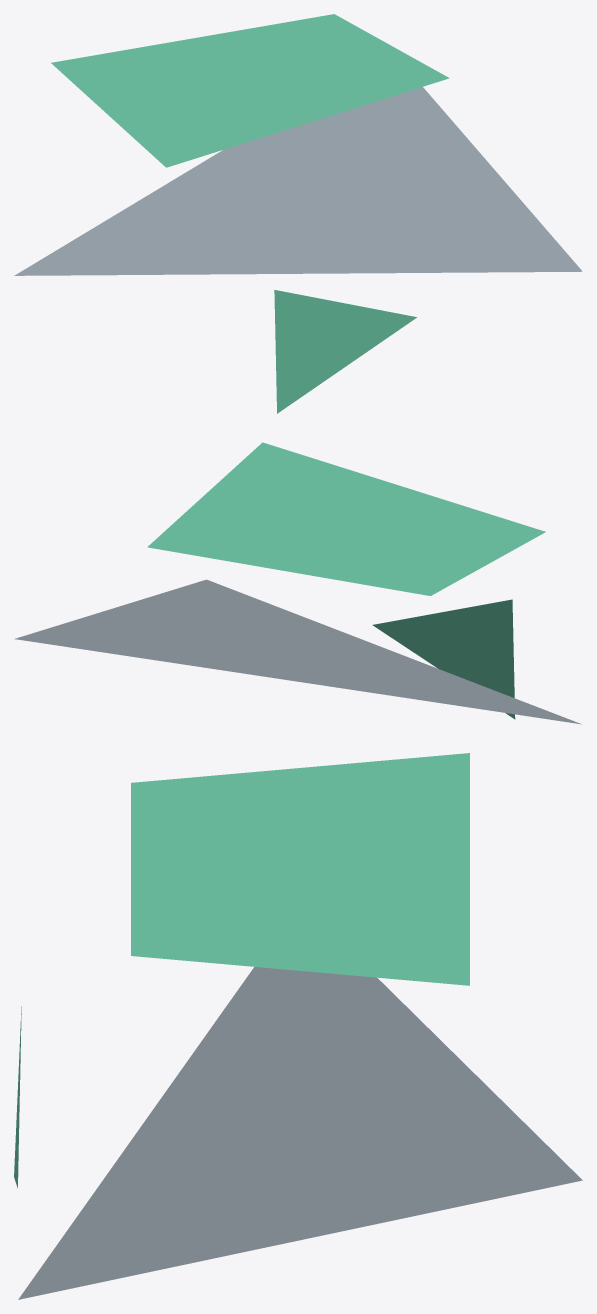
The model's file is CO_AiravataWalker_LOD2.glb.
3 renders of one model, top to bottom at view 1: azimuth 30°, elevation 25°; view 2: azimuth 150°, elevation 25°; view 3: azimuth 270°, elevation 25°, orthographic. The views are drawn at different scales.
Parts seen in each view (by area): view 1: EntranceGate; view 2: EntranceGate; view 3: EntranceGate.
Part boxes in pixels (x1,y1,x2,y2): EntranceGate: (14, 14, 582, 413); EntranceGate: (15, 442, 581, 724); EntranceGate: (14, 753, 582, 1299).
Size of the model in its own units: 680 by 350 by 483.
